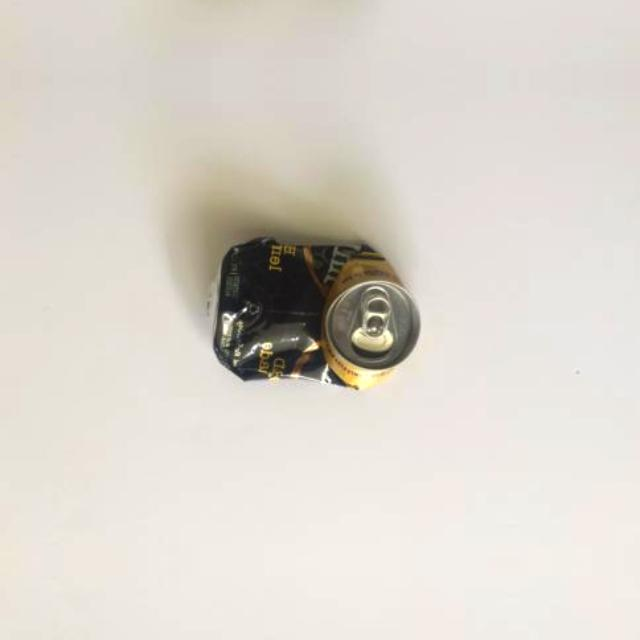Metal: (176, 194, 454, 424)
